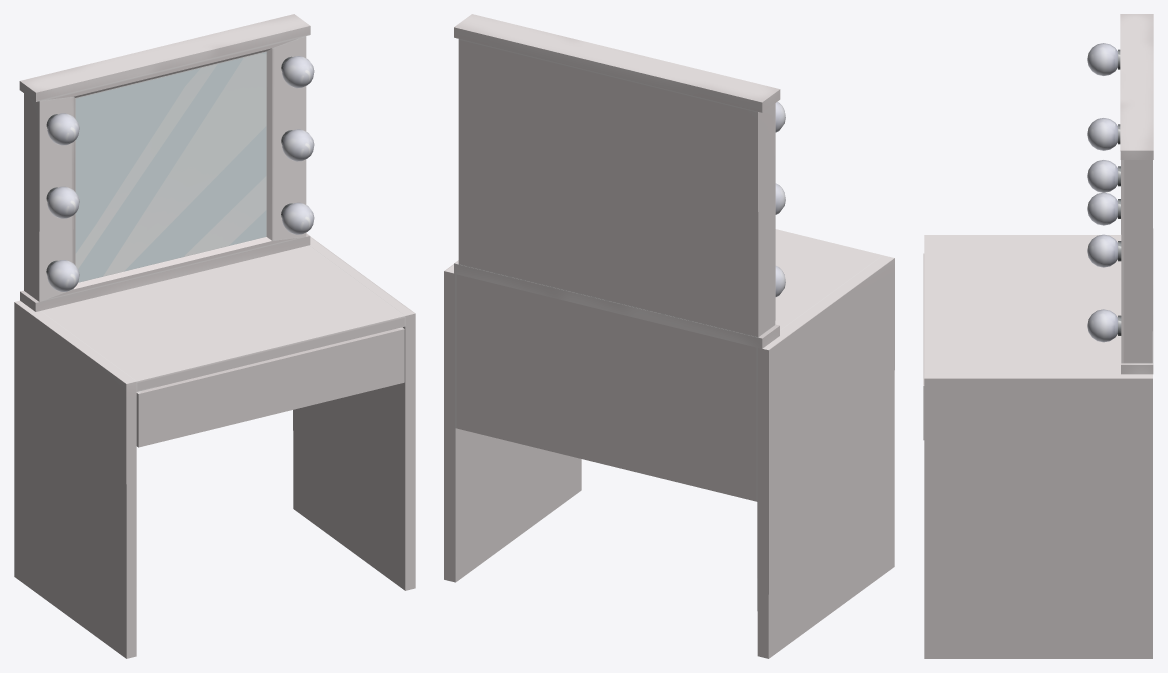
The model's file is dressing table.fbx.
3 renders of one model, left to right at view 1: azimuth 30°, elevation 25°; view 2: azimuth 150°, elevation 25°; view 3: azimuth 270°, elevation 25°, orthographic. The views are drawn at different scales.
Visible parts, largest first — view 1: dressing table, Object001; view 2: dressing table; view 3: dressing table, Object001.
Part boxes in pixels (left/top/right/bottom): dressing table: left=14, top=14, right=415, bottom=658; Object001: left=136, top=327, right=404, bottom=447; dressing table: left=444, top=14, right=894, bottom=658; dressing table: left=924, top=14, right=1153, bottom=658; Object001: left=923, top=253, right=924, bottom=440.
Bounding box in the file's own units: 346 × 565 × 234.
